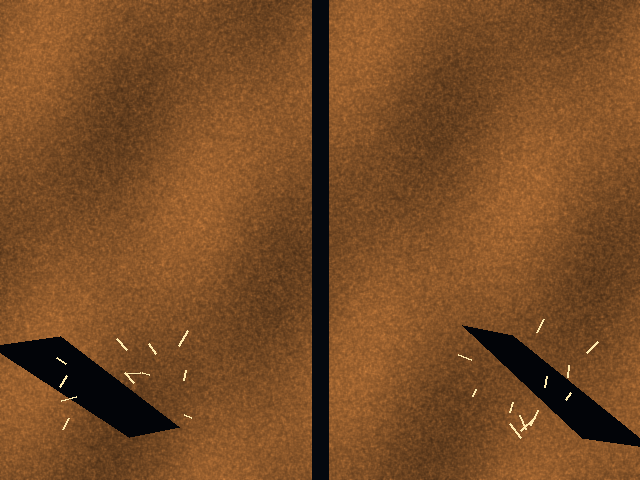Ghost Net: (452, 325, 592, 438), (50, 336, 189, 427)
